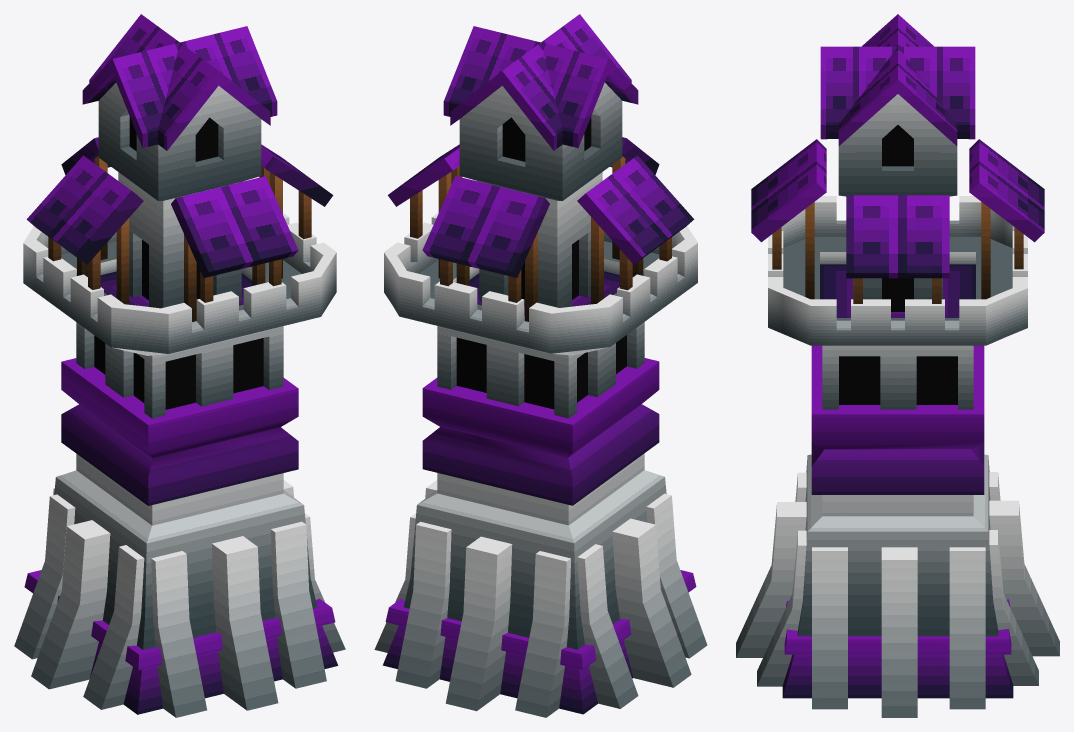
Rendered from tower_lvl7.fbx.
3 renders of one model, left to right at view 1: azimuth 30°, elevation 25°; view 2: azimuth 150°, elevation 25°; view 3: azimuth 270°, elevation 25°, orthographic.
Visible parts, largest first — view 1: tower_lvl7; view 2: tower_lvl7; view 3: tower_lvl7.
Boxes of the visible parts, box(x1,y1,x2,y2) form: tower_lvl7: box(14, 14, 345, 717); tower_lvl7: box(374, 14, 707, 717); tower_lvl7: box(736, 14, 1059, 717).
Bounding box in the file's own units: 1144 × 2350 × 1144.
